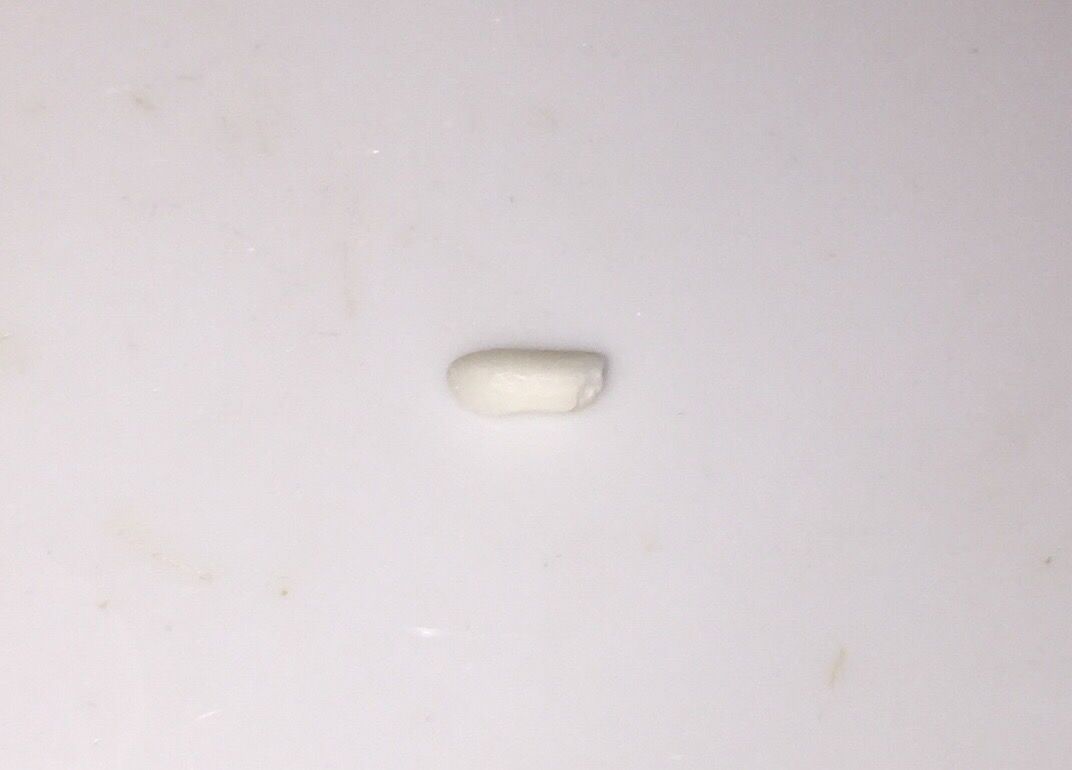Gao Nep Sap: (435, 318, 624, 445)
